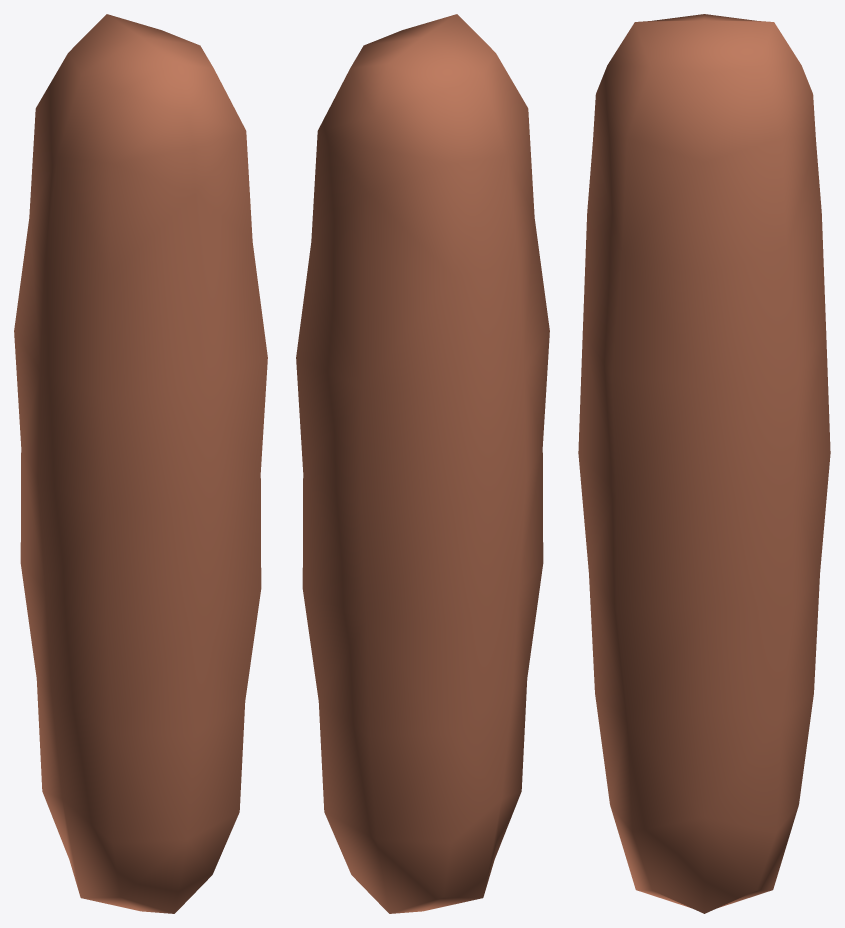
File: left-right_lower_leg.dae
3 renders of one model, left to right at view 1: azimuth 30°, elevation 25°; view 2: azimuth 150°, elevation 25°; view 3: azimuth 270°, elevation 25°, orthographic. The views are drawn at different scales.
Parts seen in each view (by area): view 1: Plane; view 2: Plane; view 3: Plane.
Part boxes in pixels (x1=…): Plane: x1=14, y1=14, x2=267, y2=913; Plane: x1=296, y1=14, x2=549, y2=913; Plane: x1=578, y1=14, x2=830, y2=913.
Size of the model in its own units: 0.2514 by 0.2606 by 1.02.
